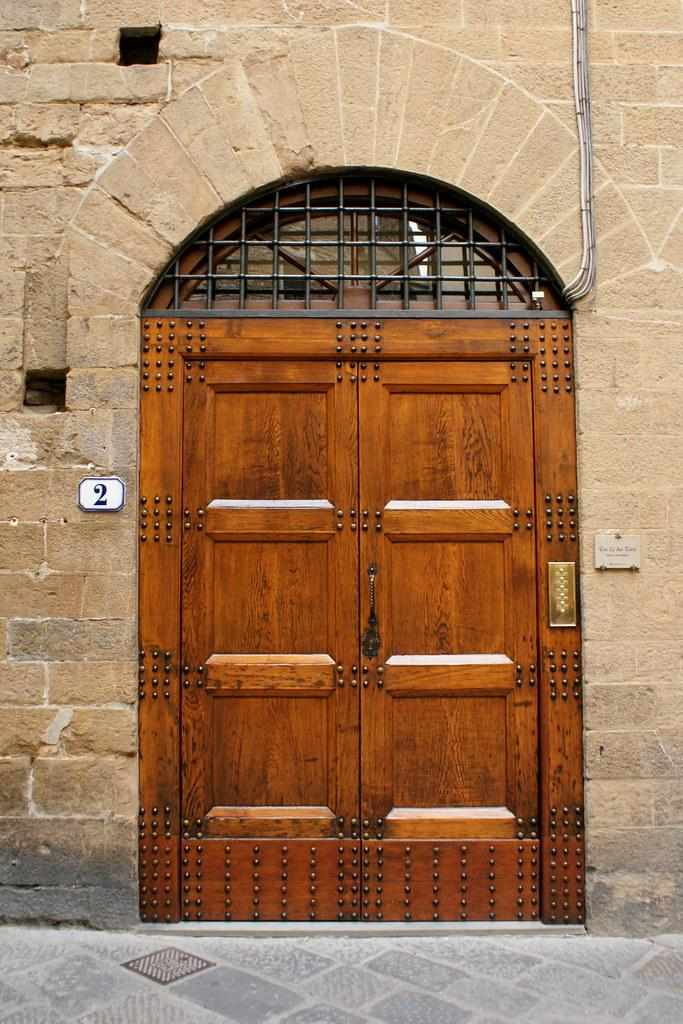door: (138, 310, 584, 928)
